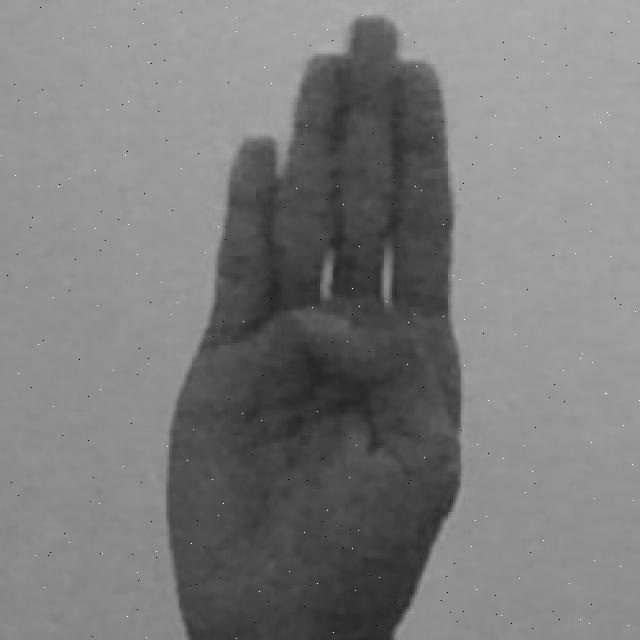B: (162, 13, 463, 640)
